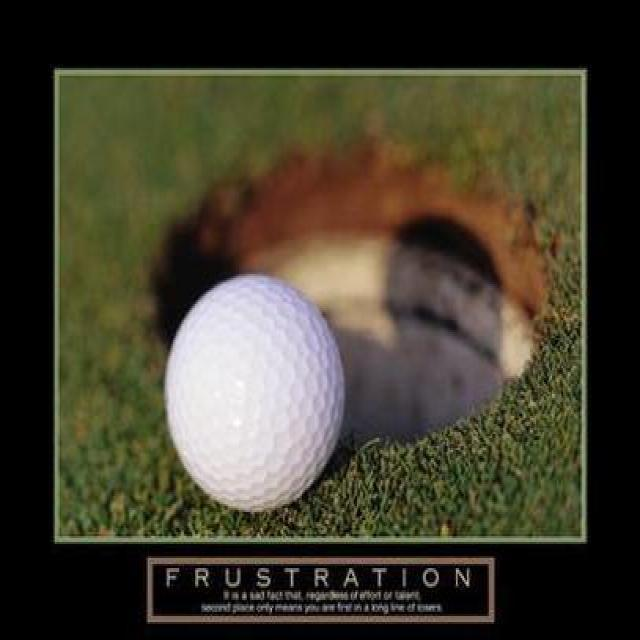golfball: (157, 266, 351, 526)
